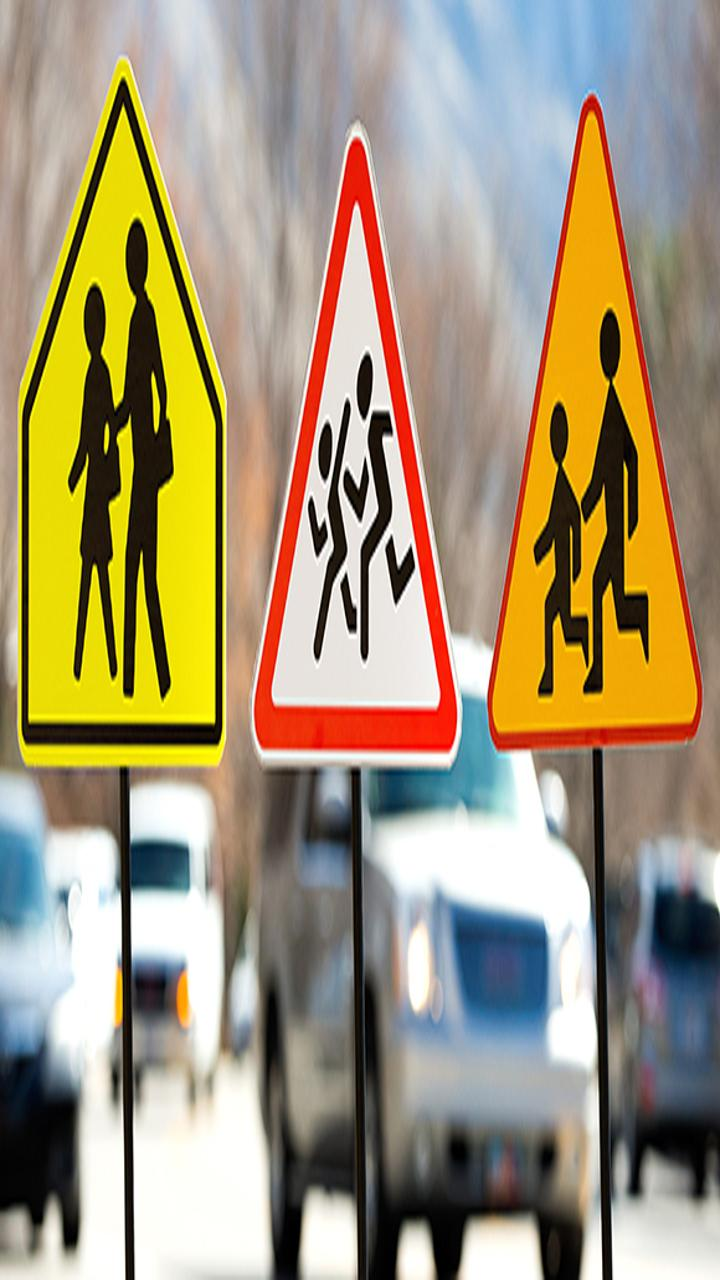Traffic sign: (10, 60, 259, 791), (470, 75, 702, 753), (268, 105, 479, 795)
